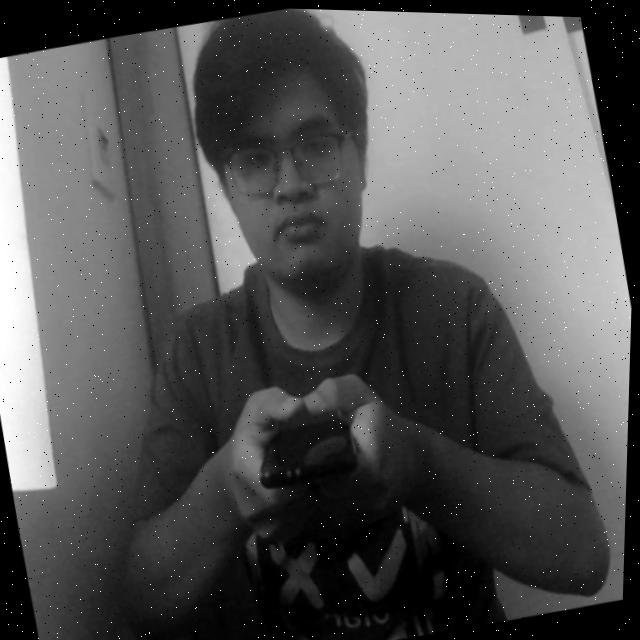phone: (241, 372, 394, 515)
